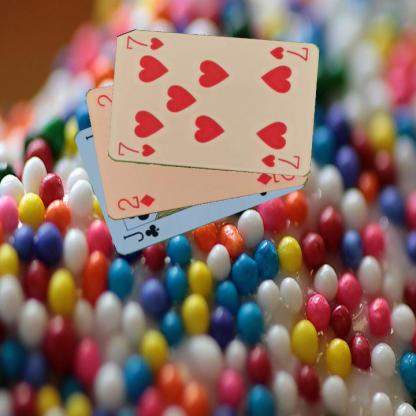2d: (115, 191, 156, 212)
7h: (266, 44, 309, 63), (115, 140, 156, 158)
Jc: (120, 221, 161, 244)
